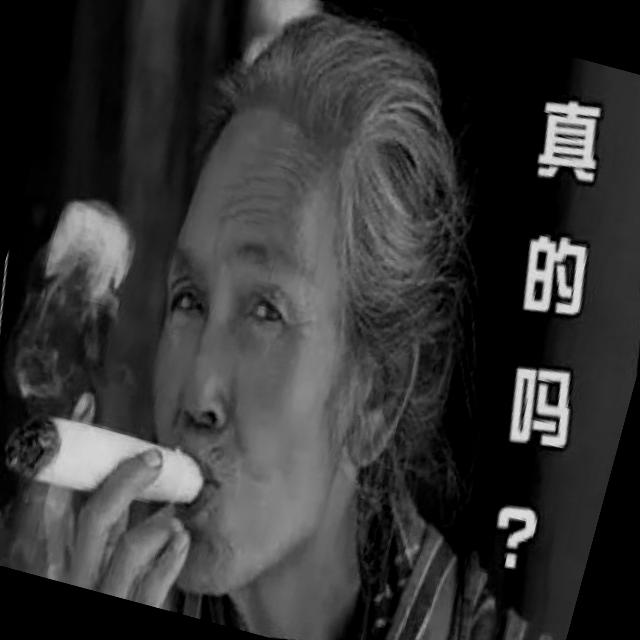cigarette: (0, 374, 221, 540)
